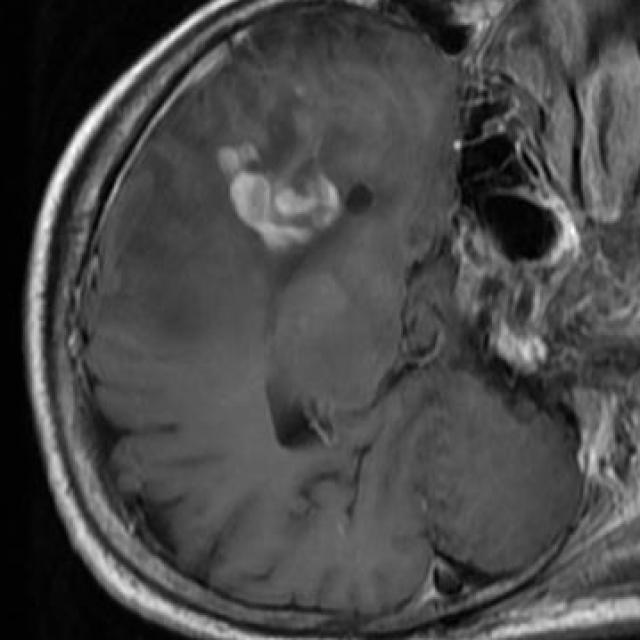glioma: (217, 144, 341, 255)
